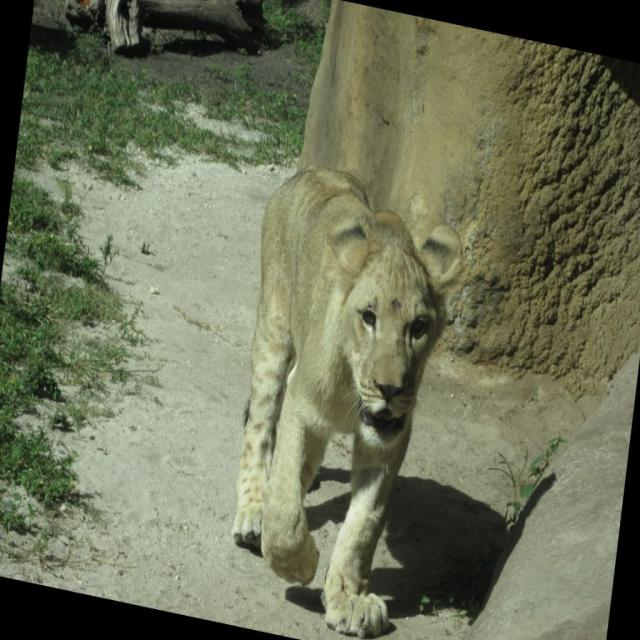Lion: (215, 158, 472, 639)
